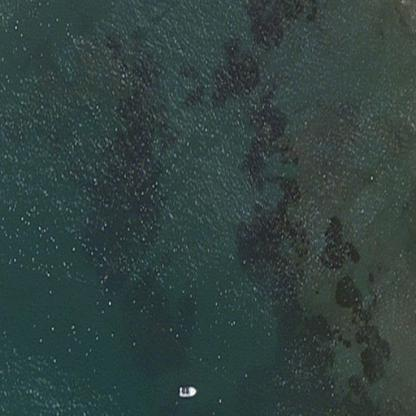ship: (2, 385, 5, 397)
